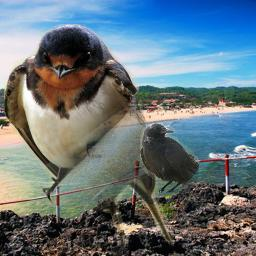Crow: (140, 123, 199, 193)
Swallow: (4, 24, 174, 247)
